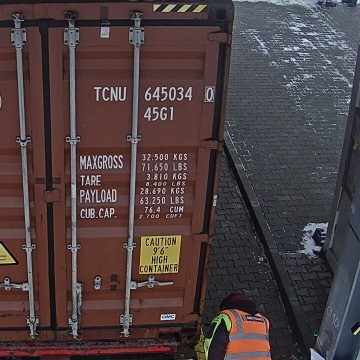serial_id: (94, 87, 213, 101)
